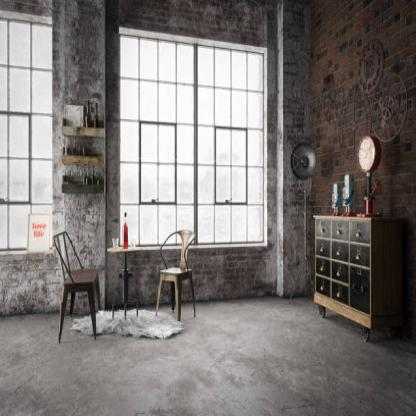Window: (121, 27, 268, 245), (0, 10, 55, 252)
